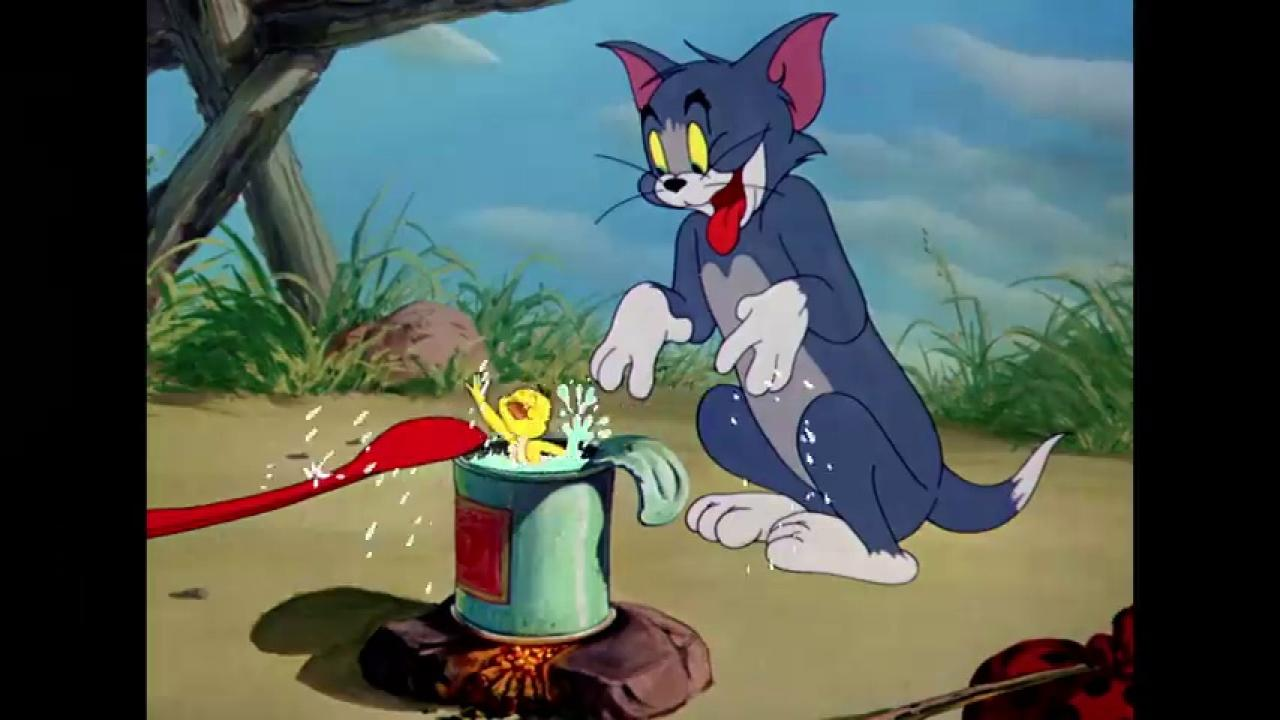Tom: (587, 9, 1077, 586)
